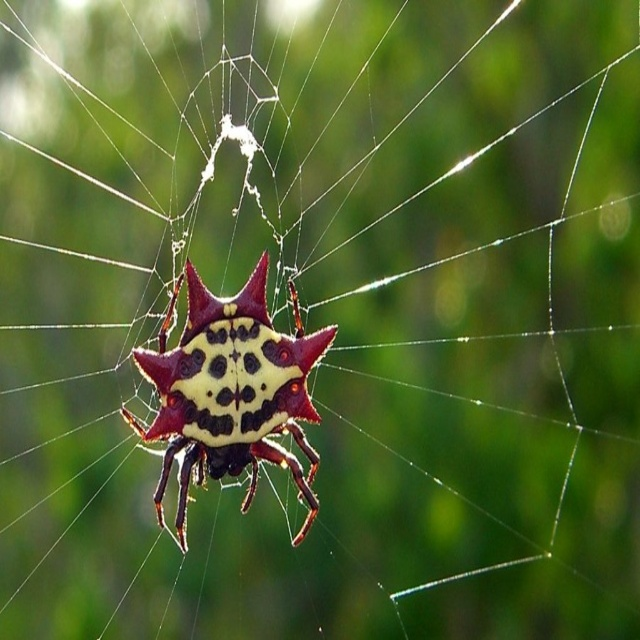Spider: (120, 248, 339, 555)
